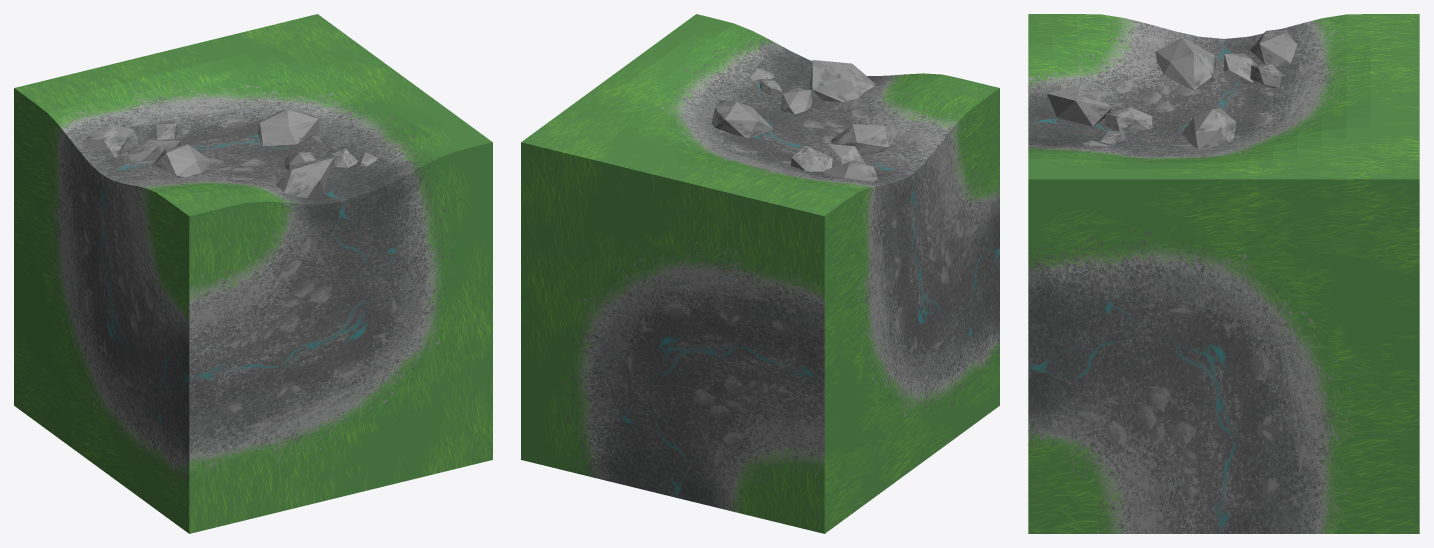
The model's file is TileRekaPosusenaOvinek.fbx.
3 views of the same model, side by side, from view 1: azimuth 30°, elevation 25°; view 2: azimuth 150°, elevation 25°; view 3: azimuth 270°, elevation 25° (orthographic). The views are drawn at different scales.
Parts seen in each view (by area): view 1: Icosphere.026; view 2: Icosphere.026; view 3: Icosphere.026.
Part boxes in pixels (x1,y1,x2,y2): Icosphere.026: [14, 14, 492, 533]; Icosphere.026: [521, 14, 999, 533]; Icosphere.026: [1028, 14, 1419, 533].
Size of the model in its own units: 200 by 202 by 200.
